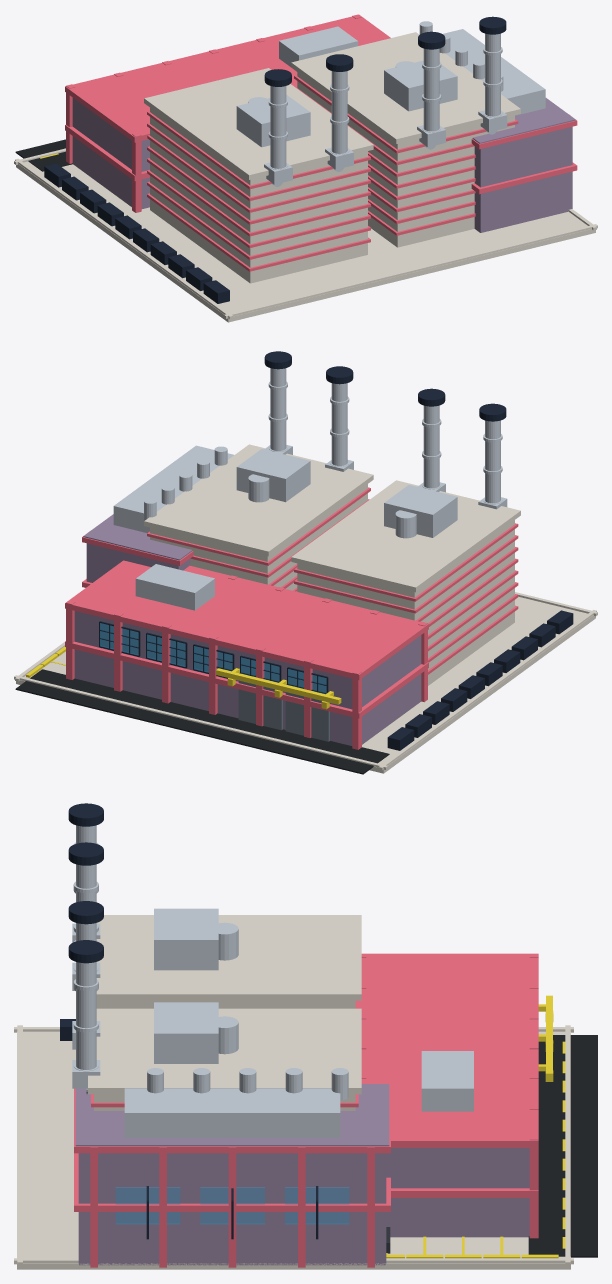
Rendered from hq_02_powertrain_l2.glb.
The picture shows the model from 3 angles, top to bottom: view 1: azimuth 30°, elevation 25°; view 2: azimuth 150°, elevation 25°; view 3: azimuth 270°, elevation 25°; orthographic projection. The views are drawn at different scales.
Parts seen in each view (by area): view 1: GEO_Dyno_Bunkers_Concrete, GEO_Plinth_Foundation, GEO_Dyno_Acoustic_Ribs, GEO_Workshop_Structural_Beams, GEO_East_Transmission_Wing, GEO_Exhaust_Stacks_Pipes, GEO_Rooftop_HVAC_Blowers, GEO_Landscaping_Hedges, GEO_Front_Workshop_Brick, GEO_Transmission_Acoustic_Silencers, GEO_Exhaust_Stack_Caps, GEO_East_Structural_Beams (+1 smaller); view 2: GEO_Dyno_Bunkers_Concrete, GEO_Workshop_Structural_Beams, GEO_Front_Workshop_Brick, GEO_Plinth_Foundation, GEO_Rooftop_HVAC_Blowers, GEO_Front_Apron_Asphalt, GEO_Dyno_Acoustic_Ribs, GEO_Exhaust_Stacks_Pipes, GEO_Landscaping_Hedges, GEO_Transmission_Acoustic_Silencers, GEO_East_Transmission_Wing, GEO_Workshop_Ribbon_Glass (+5 smaller); view 3: GEO_Dyno_Bunkers_Concrete, GEO_East_Transmission_Wing, GEO_Workshop_Structural_Beams, GEO_Plinth_Foundation, GEO_Rooftop_HVAC_Blowers, GEO_Transmission_Acoustic_Silencers, GEO_Front_Apron_Asphalt, GEO_Front_Workshop_Brick, GEO_East_Structural_Beams, GEO_East_Dyno_Windows, GEO_Exhaust_Stacks_Pipes, GEO_Exhaust_Stack_Caps (+2 smaller).
Boxes of the visible parts, x1,y1,x2,y2 form: GEO_Dyno_Bunkers_Concrete: [144, 32, 520, 283]; GEO_Plinth_Foundation: [14, 148, 597, 322]; GEO_Dyno_Acoustic_Ribs: [147, 75, 518, 271]; GEO_Workshop_Structural_Beams: [65, 14, 390, 212]; GEO_East_Transmission_Wing: [472, 98, 575, 232]; GEO_Exhaust_Stacks_Pipes: [264, 33, 507, 186]; GEO_Rooftop_HVAC_Blowers: [236, 26, 457, 147]; GEO_Landscaping_Hedges: [44, 163, 229, 303]; GEO_Front_Workshop_Brick: [72, 98, 149, 208]; GEO_Transmission_Acoustic_Silencers: [419, 21, 545, 115]; GEO_Exhaust_Stack_Caps: [264, 16, 506, 86]; GEO_East_Structural_Beams: [471, 114, 577, 194]; GEO_Dyno_Bunkers_Concrete: [144, 444, 520, 685]; GEO_Workshop_Structural_Beams: [65, 560, 428, 749]; GEO_Front_Workshop_Brick: [74, 611, 421, 745]; GEO_Plinth_Foundation: [14, 592, 597, 773]; GEO_Rooftop_HVAC_Blowers: [135, 449, 457, 610]; GEO_Front_Apron_Asphalt: [15, 669, 389, 774]; GEO_Dyno_Acoustic_Ribs: [147, 487, 518, 674]; GEO_Exhaust_Stacks_Pipes: [264, 368, 507, 509]; GEO_Landscaping_Hedges: [387, 610, 573, 750]; GEO_Transmission_Acoustic_Silencers: [113, 445, 233, 532]; GEO_East_Transmission_Wing: [83, 514, 192, 582]; GEO_Workshop_Ribbon_Glass: [100, 623, 326, 692]; GEO_Dyno_Bunkers_Concrete: [88, 915, 361, 1110]; GEO_East_Transmission_Wing: [75, 1084, 389, 1265]; GEO_Workshop_Structural_Beams: [358, 953, 538, 1238]; GEO_Plinth_Foundation: [14, 1025, 573, 1269]; GEO_Rooftop_HVAC_Blowers: [154, 908, 473, 1111]; GEO_Transmission_Acoustic_Silencers: [124, 1068, 348, 1137]; GEO_Front_Apron_Asphalt: [528, 1035, 597, 1257]; GEO_Front_Workshop_Brick: [386, 1148, 529, 1237]; GEO_East_Structural_Beams: [74, 1084, 390, 1267]; GEO_East_Dyno_Windows: [115, 1187, 349, 1224]; GEO_Exhaust_Stacks_Pipes: [72, 825, 100, 1094]; GEO_Exhaust_Stack_Caps: [68, 803, 103, 963].
Size of what is drawn, in the model's own units: 38.49 by 19.6 by 37.95.
